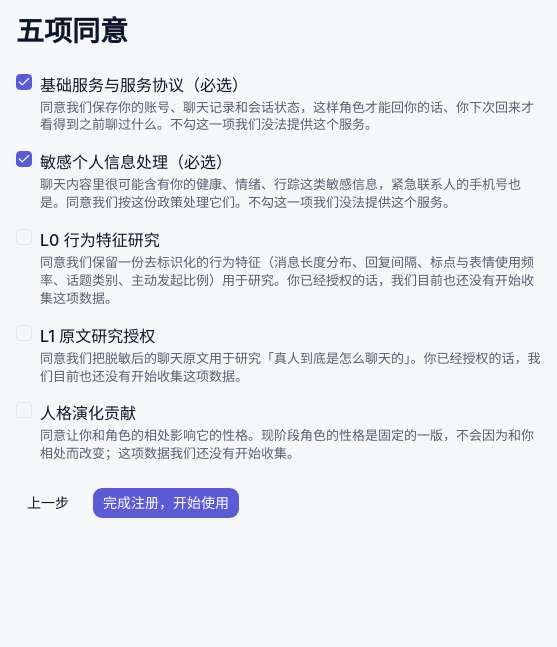
提交失败保留已填内容 + 全屏唯一 28px › 未知错误码 ⇒ 仍渲染网络中断兜底文案
Click the button "完成注册，开始使用" at (166, 503), box [92,487,240,519]
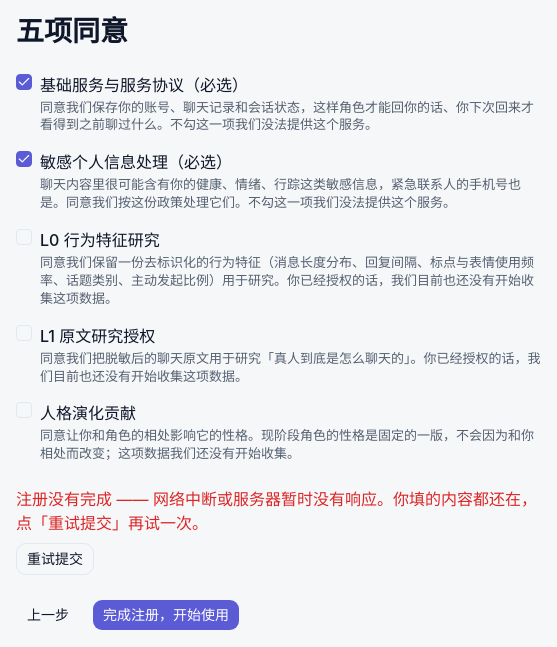
Result: the message with test id "register-submit-error" shows "注册没有完成 —— 网络中断或服务器暂时没有响应。你填的内容都还在，点「重试提交」再试一次。" at [16,489,537,533]
